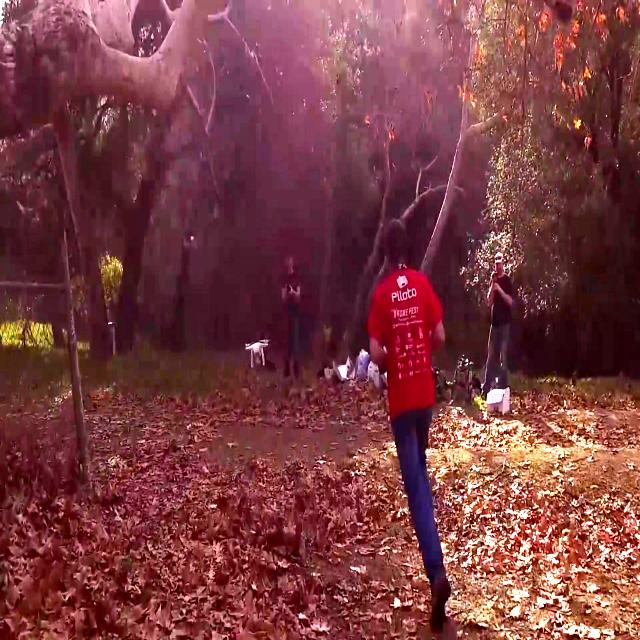drone: (240, 332, 271, 369)
